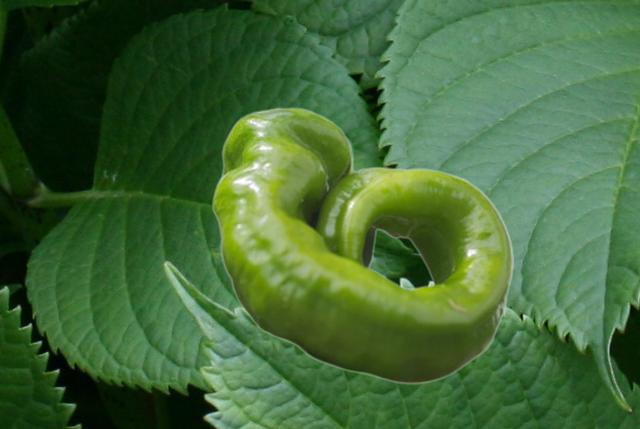green_chili: (212, 107, 512, 383)
